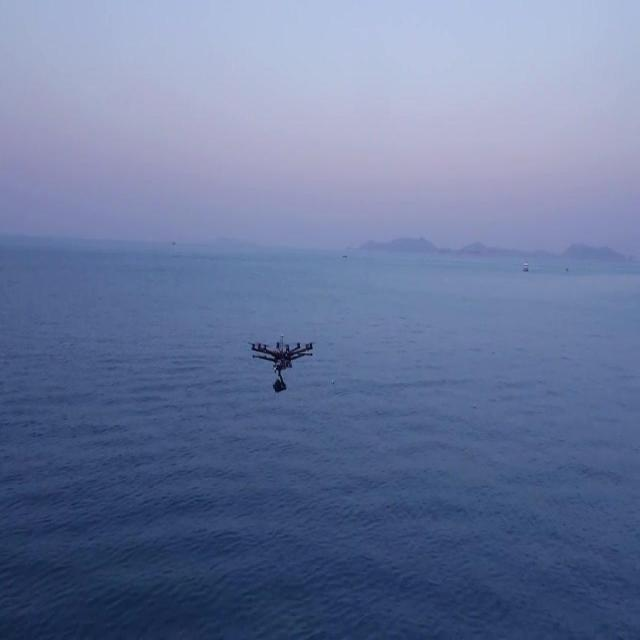drone: (250, 334, 316, 394)
